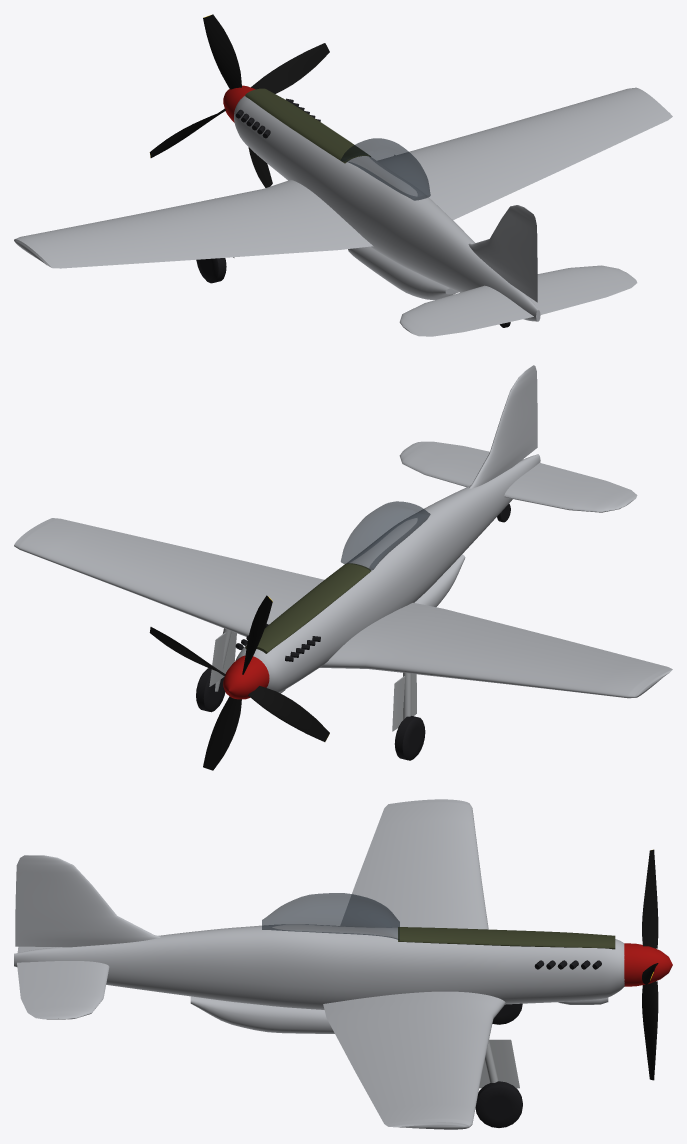
3 views of the same model, one above another, from view 1: azimuth 30°, elevation 25°; view 2: azimuth 150°, elevation 25°; view 3: azimuth 270°, elevation 25° (orthographic). The views are drawn at different scales.
Visible parts, largest first — view 1: Body, Prop, Canopy, AntiGlare, Detail, Spinner; view 2: Body, Prop, Canopy, AntiGlare, Detail, Gear, Spinner; view 3: Body, Canopy, AntiGlare, Prop, Detail, Spinner, Gear.
Boxes of the visible parts, <box> form: Body: <box>14,87,672,336</box>; Prop: <box>150,14,329,187</box>; Canopy: <box>341,138,430,200</box>; AntiGlare: <box>245,88,370,163</box>; Detail: <box>196,98,510,327</box>; Spinner: <box>223,85,255,122</box>; Body: <box>14,365,672,698</box>; Prop: <box>149,595,329,770</box>; Canopy: <box>341,501,430,570</box>; AntiGlare: <box>245,563,371,653</box>; Detail: <box>196,503,510,760</box>; Gear: <box>209,628,416,731</box>; Spinner: <box>223,655,269,699</box>; Body: <box>14,799,624,1129</box>; Canopy: <box>262,893,399,940</box>; AntiGlare: <box>398,927,615,949</box>; Prop: <box>642,849,658,1080</box>; Detail: <box>475,960,601,1127</box>; Spinner: <box>624,943,672,986</box>; Gear: <box>479,1039,519,1088</box>.
Size of the model in its own units: 11.28 by 3.56 by 9.7.
